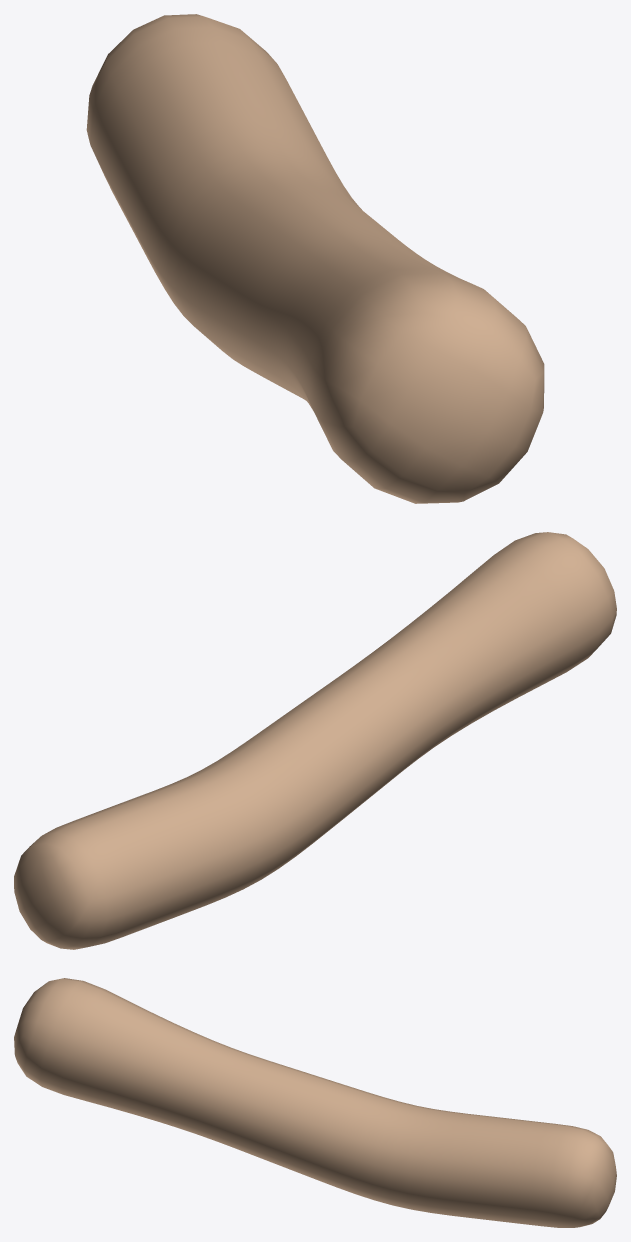
3 views of the same model, one above another, from view 1: azimuth 30°, elevation 25°; view 2: azimuth 150°, elevation 25°; view 3: azimuth 270°, elevation 25° (orthographic). The views are drawn at different scales.
Parts seen in each view (by area): view 1: 左侧桡侧腕屈肌腱鞘; view 2: 左侧桡侧腕屈肌腱鞘; view 3: 左侧桡侧腕屈肌腱鞘.
Boxes of the visible parts, x1,y1,x2,y2 form: 左侧桡侧腕屈肌腱鞘: [86, 14, 544, 503]; 左侧桡侧腕屈肌腱鞘: [14, 532, 616, 949]; 左侧桡侧腕屈肌腱鞘: [14, 978, 616, 1227].
Bounding box in the file's own units: 0.0225 × 0.0171 × 0.0523.
